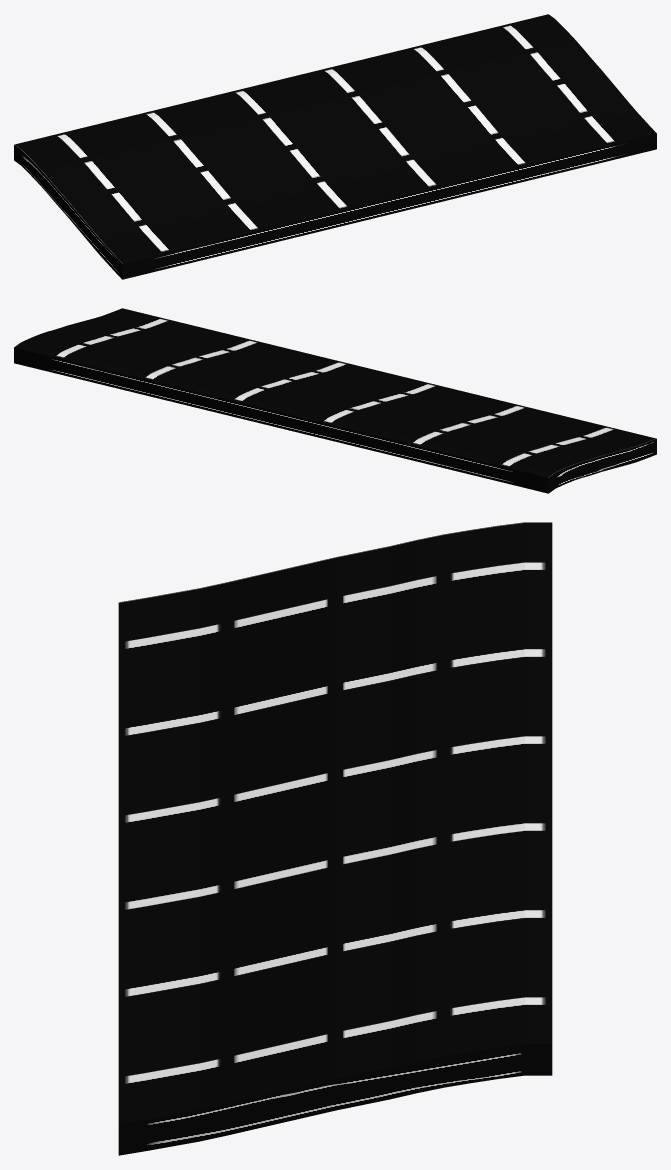
File: rectaUp.fbx
3 renders of one model, top to bottom at view 1: azimuth 30°, elevation 25°; view 2: azimuth 150°, elevation 25°; view 3: azimuth 270°, elevation 25°, orthographic. The views are drawn at different scales.
Visible parts, largest first — view 1: Road01; view 2: Road01; view 3: Road01.
Part boxes in pixels (x1,y1,x2,y2): Road01: (14, 14, 656, 279); Road01: (14, 308, 656, 493); Road01: (118, 522, 552, 1155).
Size of the model in its own units: 709 by 70.77 by 249.
